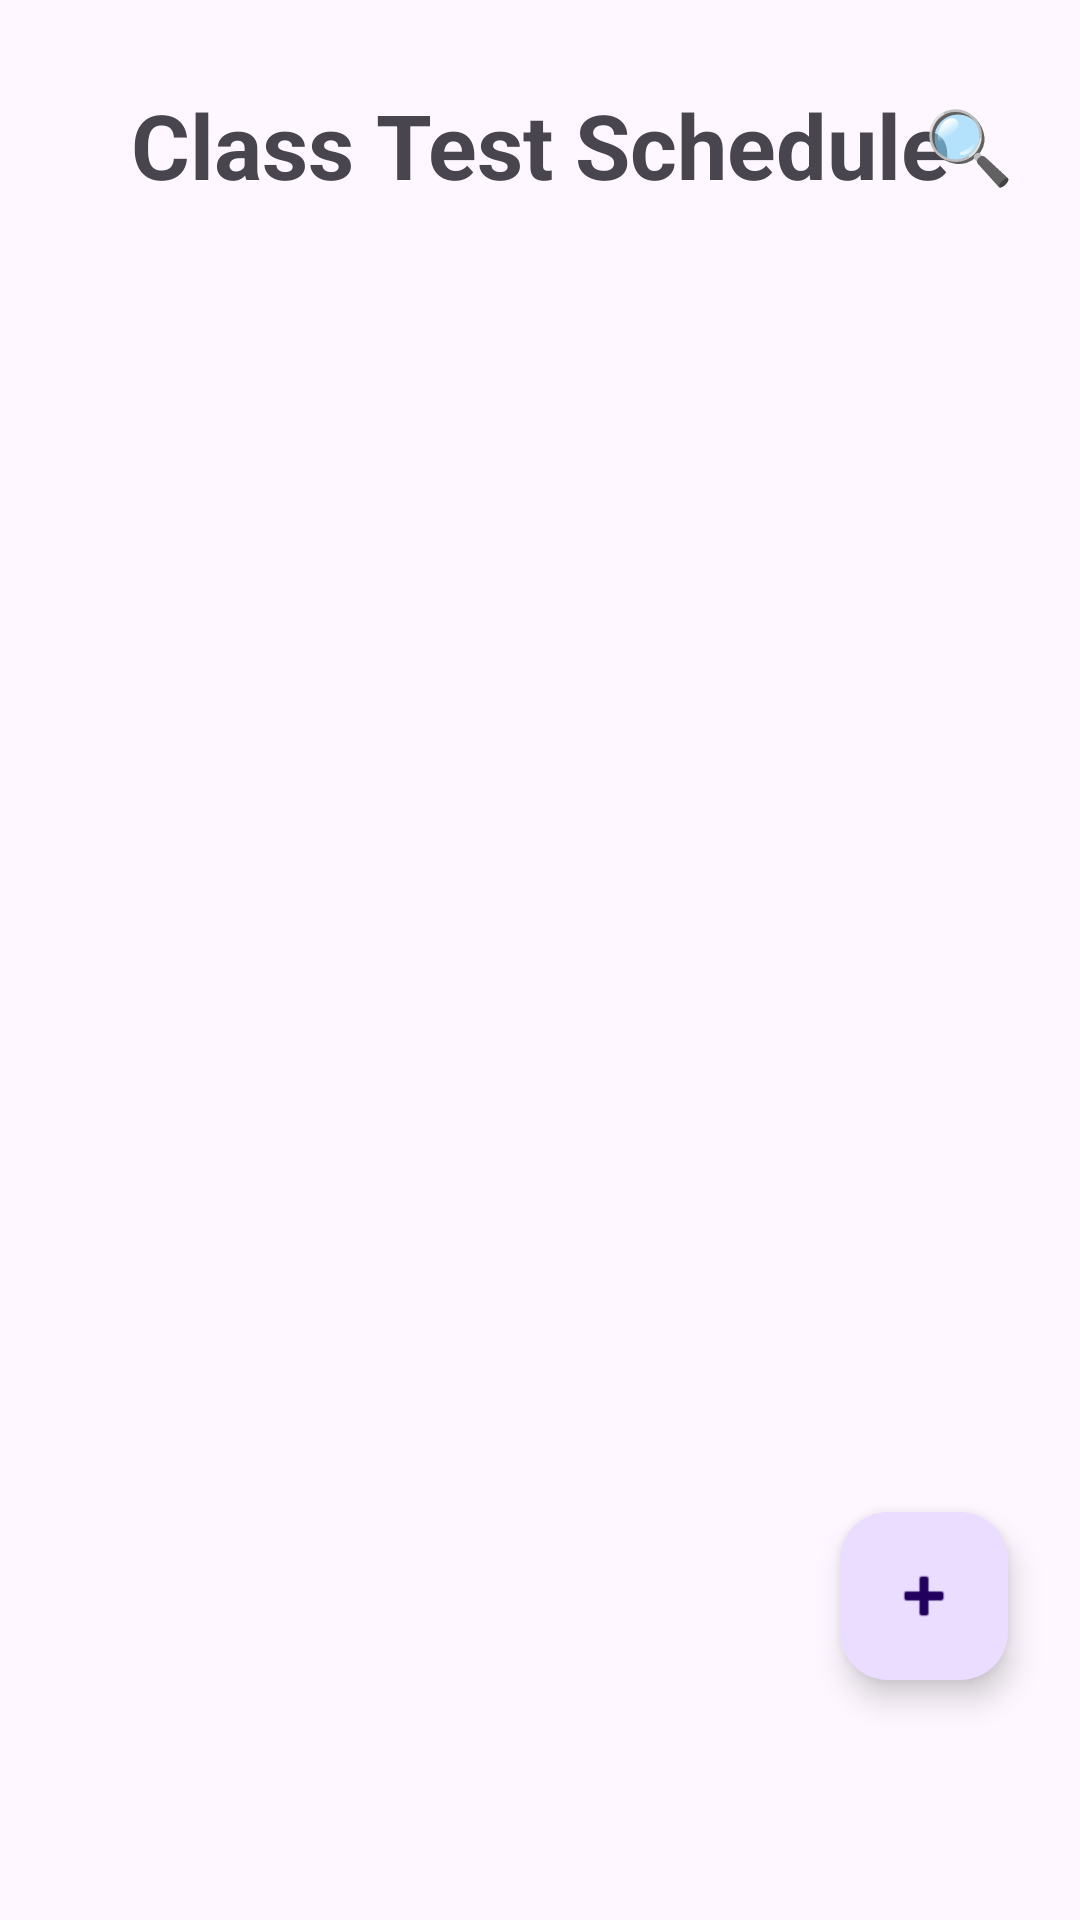

Point at icon controls on the screen. Image size 1080×1920, points as (x,y).
Add Class Test: (924,1596)
